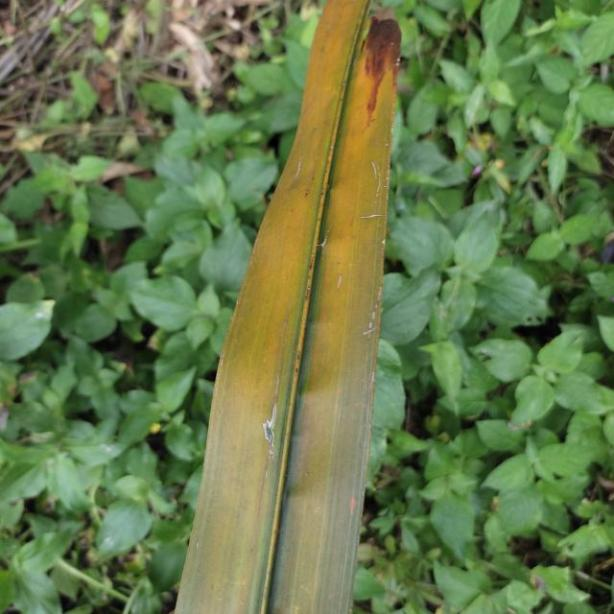Megnesium: (173, 0, 406, 614)
